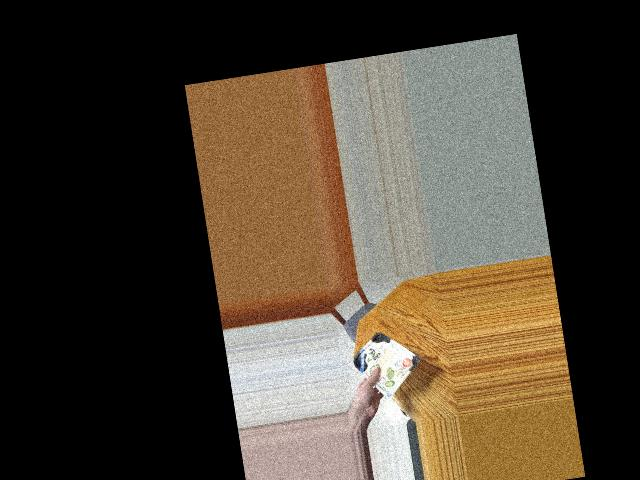cheese: (354, 336, 415, 382)
